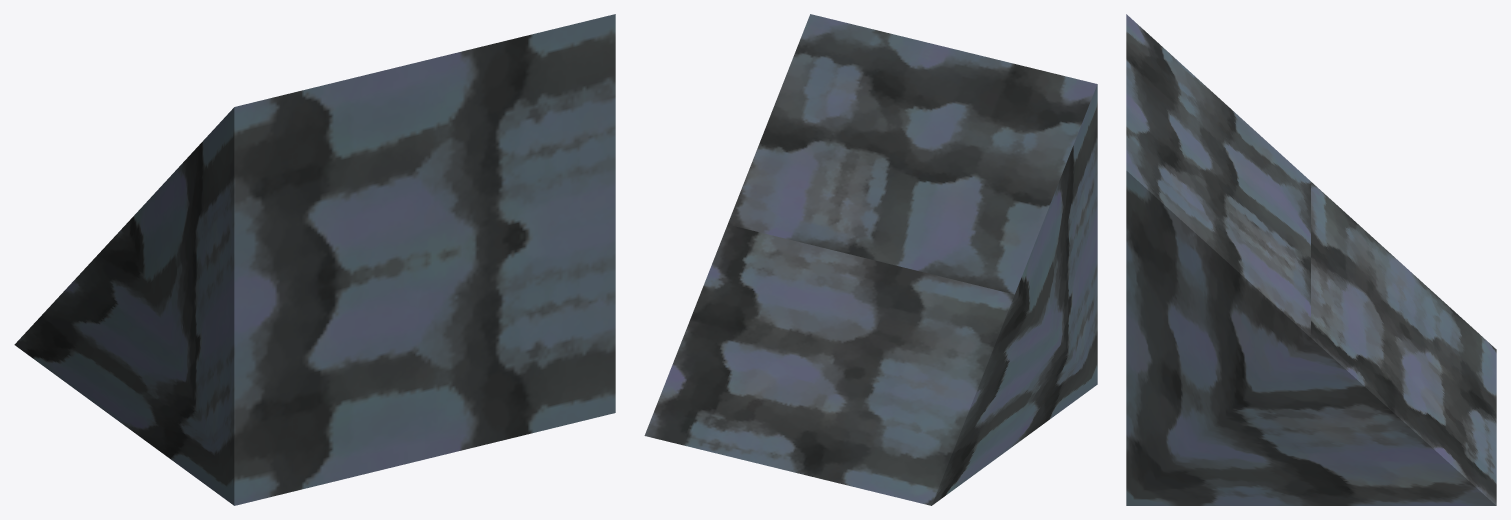
File: roofmesh5.glb
The picture shows the model from 3 angles, left to right: view 1: azimuth 30°, elevation 25°; view 2: azimuth 150°, elevation 25°; view 3: azimuth 270°, elevation 25°; orthographic projection. The views are drawn at different scales.
Parts seen in each view (by area): view 1: Cube; view 2: Cube; view 3: Cube.
Part boxes in pixels (left/top/right/bottom): Cube: left=14, top=14, right=615, bottom=505; Cube: left=644, top=14, right=1097, bottom=505; Cube: left=1126, top=14, right=1496, bottom=505.
Size of the model in its own units: 2 by 2 by 2.
1 material, 1 textured.
